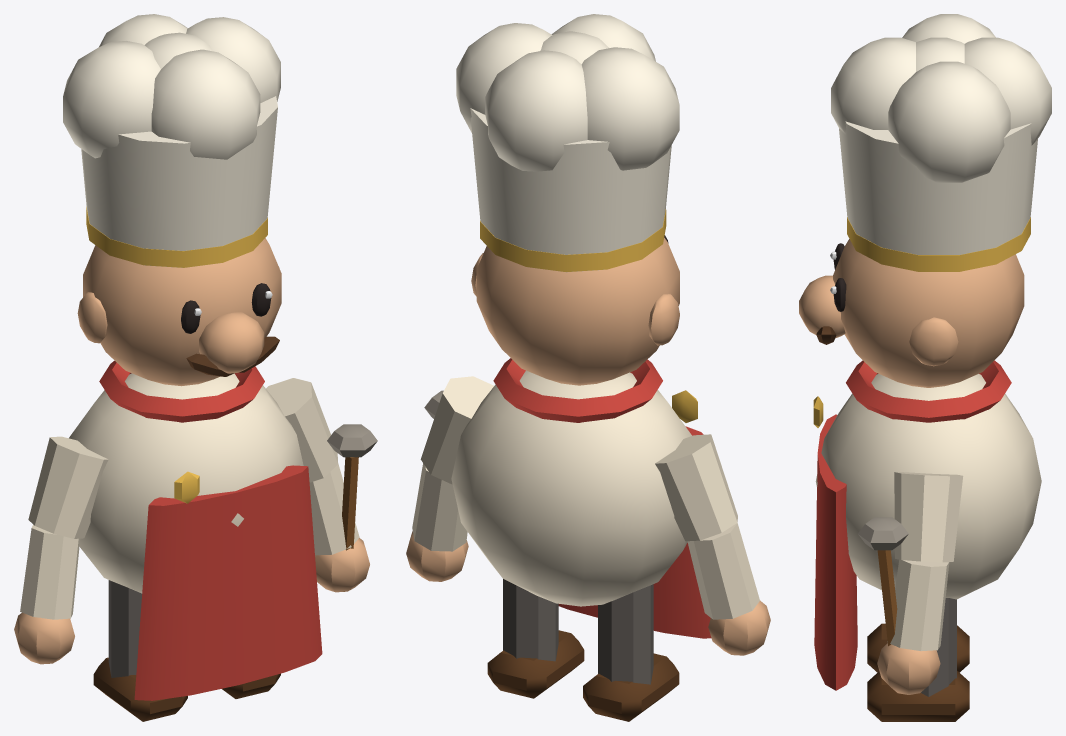
File: CH_Costume_Ayla_Sef.fbx
3 renders of one model, left to right at view 1: azimuth 30°, elevation 25°; view 2: azimuth 150°, elevation 25°; view 3: azimuth 270°, elevation 25°, orthographic. The views are drawn at different scales.
Visible parts, largest first — view 1: CH_Costume_Ayla_Sef; view 2: CH_Costume_Ayla_Sef; view 3: CH_Costume_Ayla_Sef.
Part boxes in pixels (x1=…): CH_Costume_Ayla_Sef: x1=14, y1=14, x2=377, y2=721; CH_Costume_Ayla_Sef: x1=406, y1=14, x2=770, y2=721; CH_Costume_Ayla_Sef: x1=799, y1=14, x2=1051, y2=721.
Size of the model in its own units: 0.7912 by 1.4 by 0.4946.
1 material, 1 textured.
